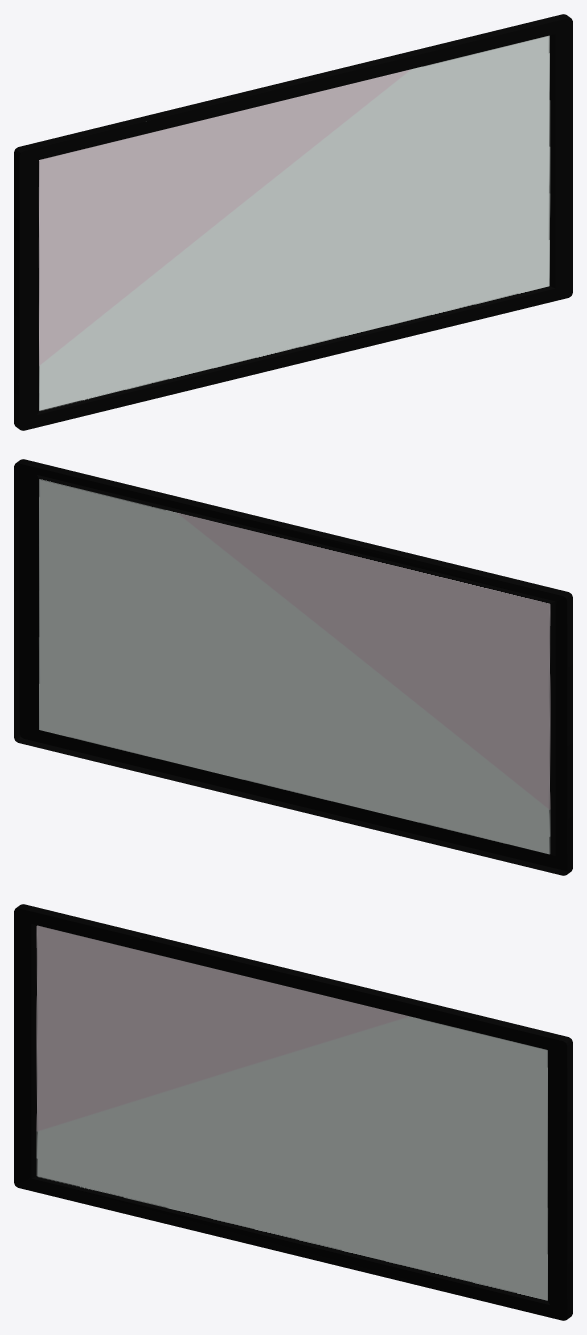
Rendered from Board.fbx.
3 renders of one model, top to bottom at view 1: azimuth 30°, elevation 25°; view 2: azimuth 150°, elevation 25°; view 3: azimuth 330°, elevation 25°, orthographic.
Visible parts, largest first — view 1: Board; view 2: Board; view 3: Board.
Boxes of the visible parts, <box> form: Board: <box>14,14,572,430</box>; Board: <box>14,459,572,875</box>; Board: <box>14,904,572,1320</box>.
Size of the model in its own units: 468 by 226 by 8.12.
Materials: 1 (1 with a texture image).
